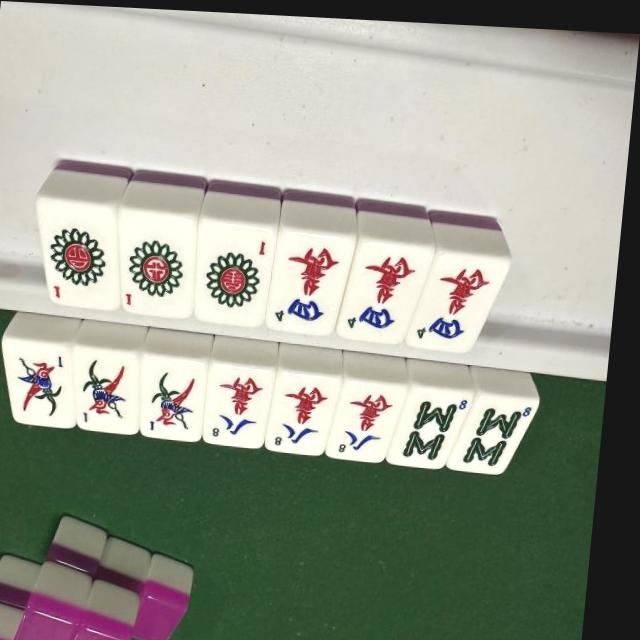sb1: (16, 349, 80, 423), (84, 354, 146, 429), (151, 367, 211, 435)
sb8: (462, 394, 541, 468), (403, 385, 477, 461)
sc4: (414, 246, 500, 346), (274, 228, 355, 331), (346, 236, 426, 339)
sc8: (214, 363, 278, 442), (276, 370, 341, 447), (338, 380, 403, 456)
sd1: (39, 203, 127, 306), (199, 217, 281, 323), (121, 214, 202, 315)
